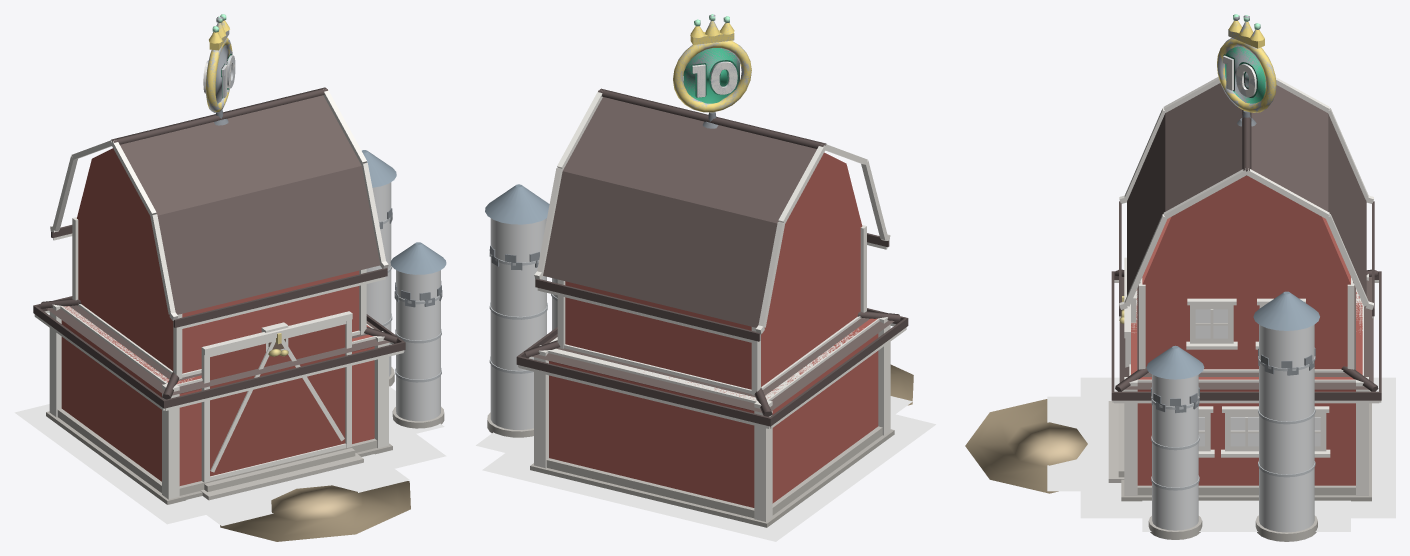
File: barn_10.glb
3 renders of one model, left to right at view 1: azimuth 30°, elevation 25°; view 2: azimuth 150°, elevation 25°; view 3: azimuth 270°, elevation 25°, orthographic. The views are drawn at different scales.
Visible parts, largest first — view 1: body2, barn_10, spin_60_0, body; view 2: body2, barn_10, spin_60_0, body; view 3: body2, barn_10, spin_60_0, body.
Boxes of the visible parts, <box> form: body2: <box>33,87,446,541</box>; barn_10: <box>14,386,446,525</box>; spin_60_0: <box>203,14,234,112</box>; body: <box>204,16,235,112</box>; body2: <box>485,88,913,527</box>; barn_10: <box>476,396,935,541</box>; spin_60_0: <box>673,14,751,112</box>; body: <box>673,14,751,110</box>; body2: <box>965,76,1381,541</box>; barn_10: <box>1047,377,1395,531</box>; spin_60_0: <box>1217,14,1276,112</box>; body: <box>1217,15,1275,112</box>.
Bounding box in the file's own units: 3.42 × 4.22 × 3.8.
